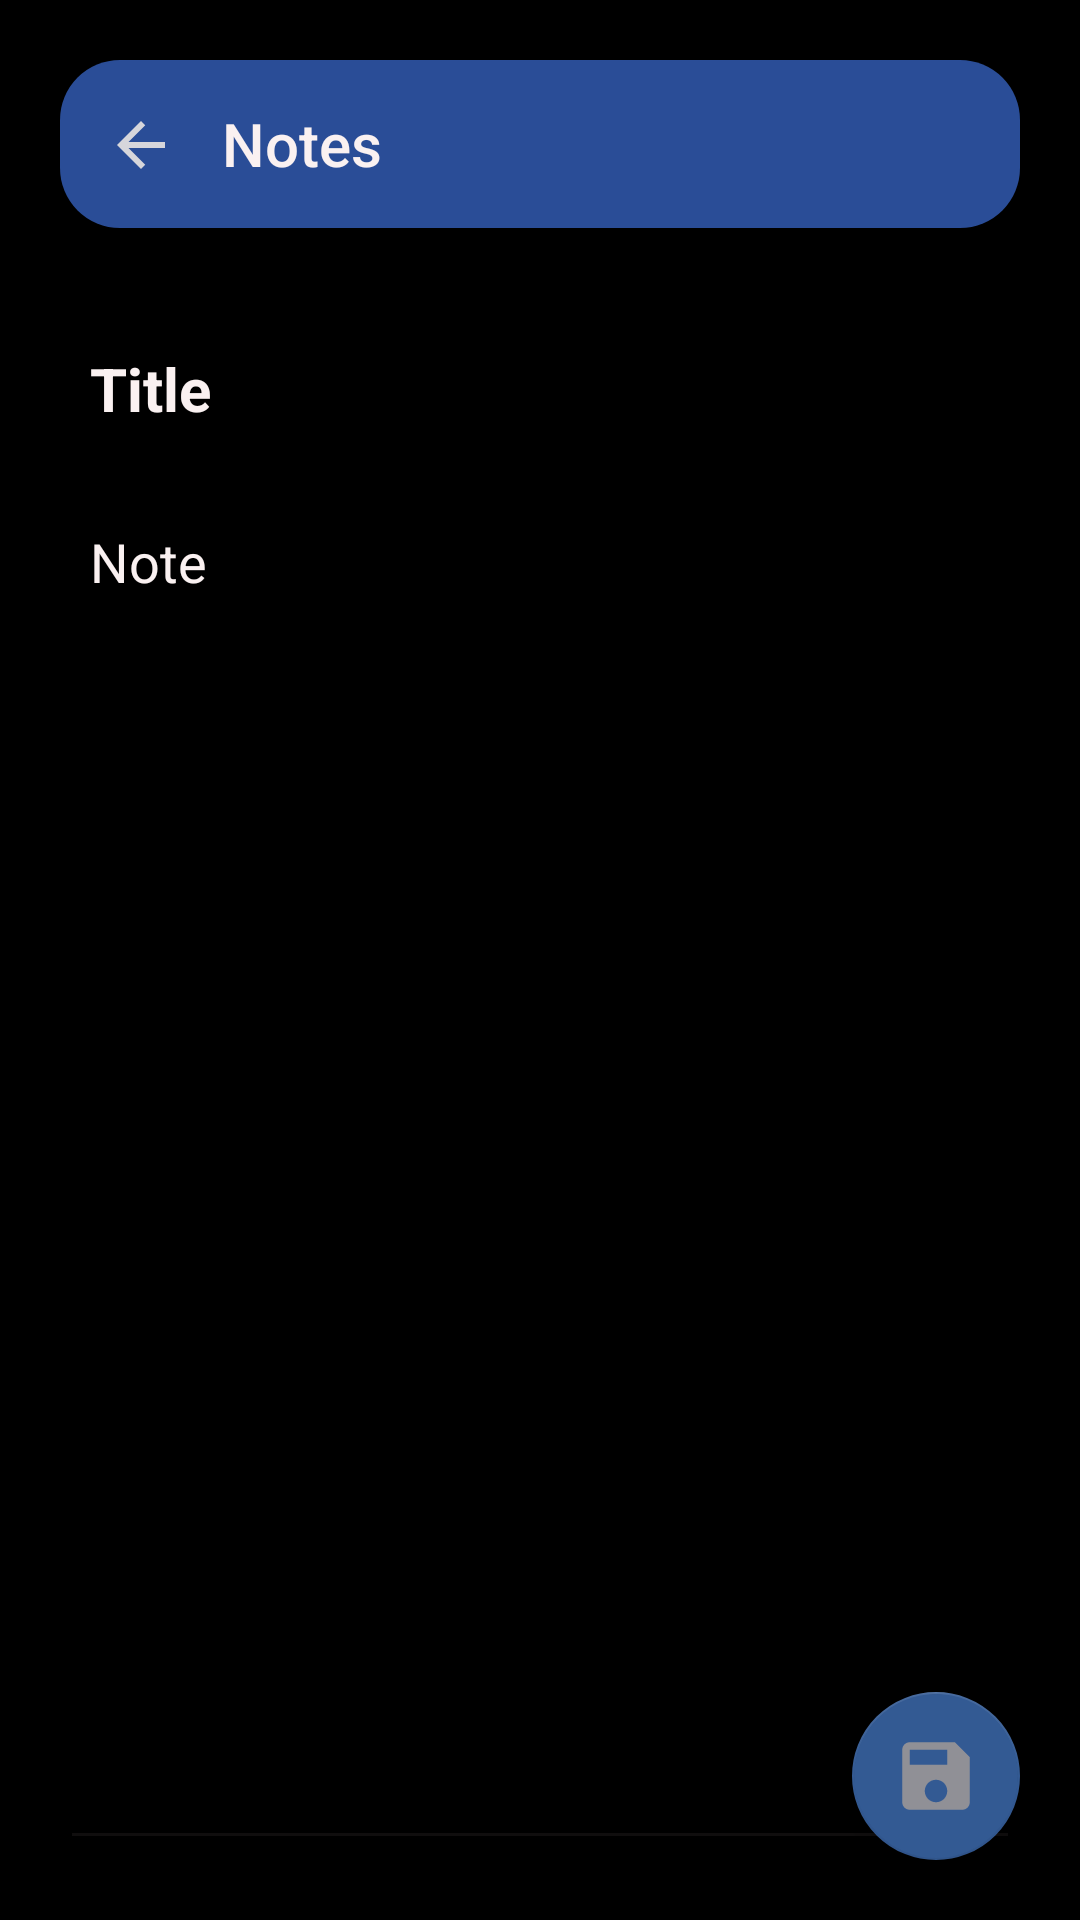

Point at icon controls on the screen. Image size 1080×1920, points as (x=x, y=y).
arrow back: (x=141, y=145)
save: (x=936, y=1776)
